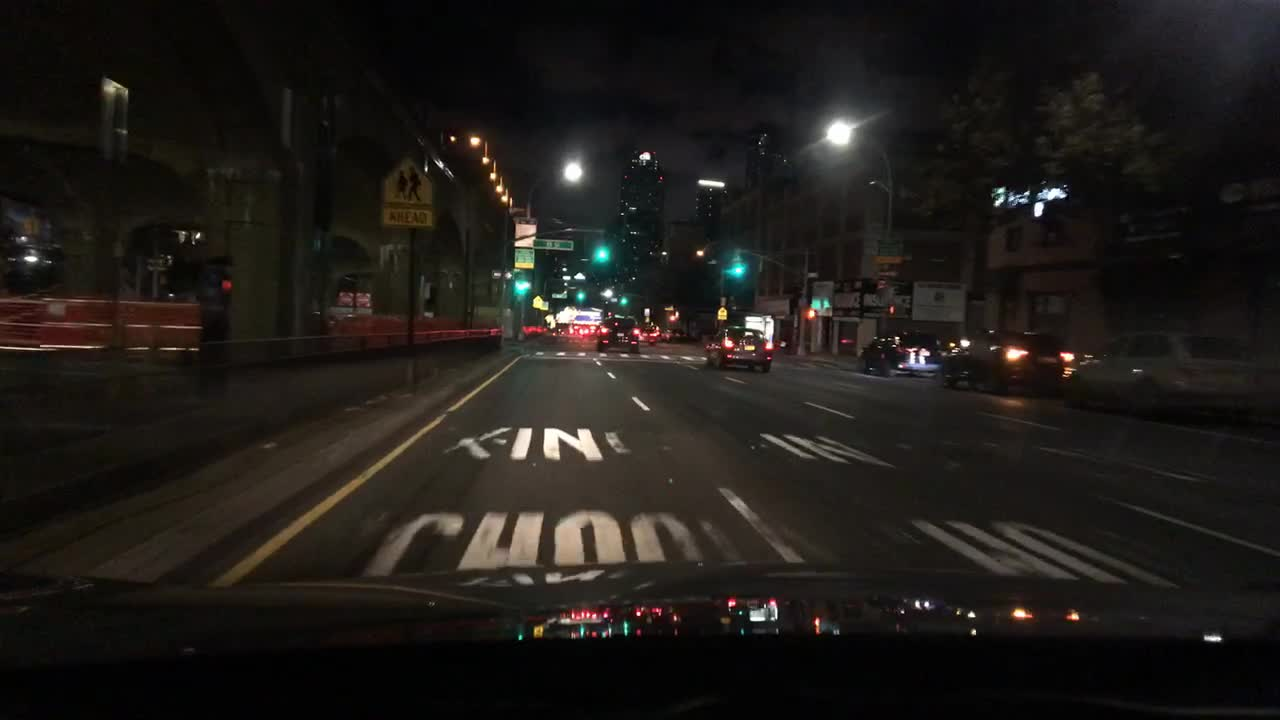car: (1069, 329, 1274, 420), (934, 326, 1068, 399), (853, 328, 943, 377), (702, 325, 773, 376), (593, 316, 643, 355), (636, 318, 662, 347), (662, 328, 685, 345), (575, 322, 593, 340)
traffic light: (732, 252, 744, 276), (597, 237, 607, 261), (512, 275, 523, 290), (804, 307, 815, 321), (577, 286, 583, 302), (888, 302, 896, 313), (619, 296, 626, 304)
traffic sign: (376, 154, 436, 225), (531, 234, 573, 252), (873, 235, 900, 261), (513, 222, 536, 248), (811, 280, 832, 300), (513, 248, 533, 268), (874, 268, 900, 280), (533, 294, 544, 309), (552, 291, 570, 299), (717, 308, 727, 319), (804, 270, 816, 278)
